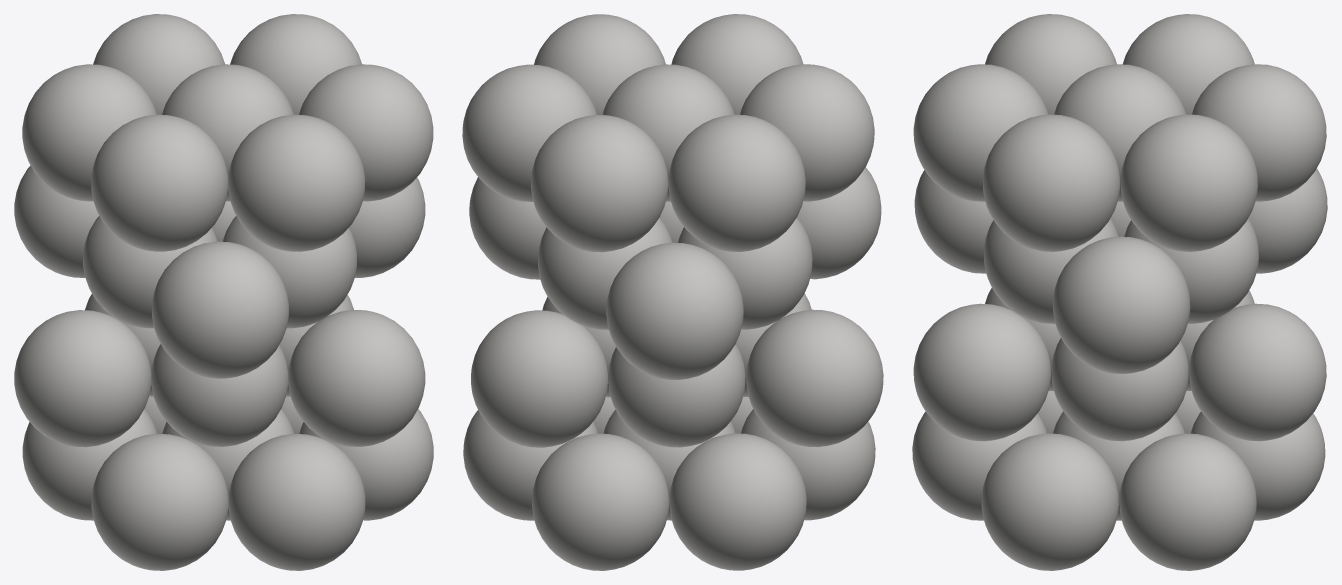
File: mianxin5_2.FBX
3 renders of one model, left to right at view 1: azimuth 30°, elevation 25°; view 2: azimuth 150°, elevation 25°; view 3: azimuth 270°, elevation 25°, orthographic.
Visible parts, largest first — view 1: 对象156; view 2: 对象156; view 3: 对象156.
Part boxes in pixels (x1,y1,x2,y2): 对象156: (14,14,433,570); 对象156: (462,14,883,570); 对象156: (912,14,1327,570).
Size of the model in its own units: 132 by 142 by 121.
